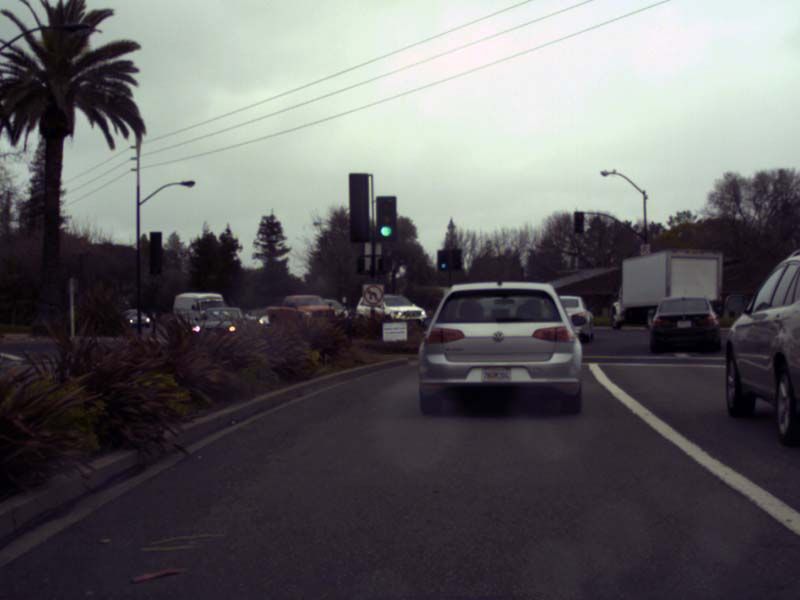Green: (376, 196, 396, 240), (438, 249, 450, 270)
Red: (574, 211, 583, 232), (451, 249, 460, 269)
